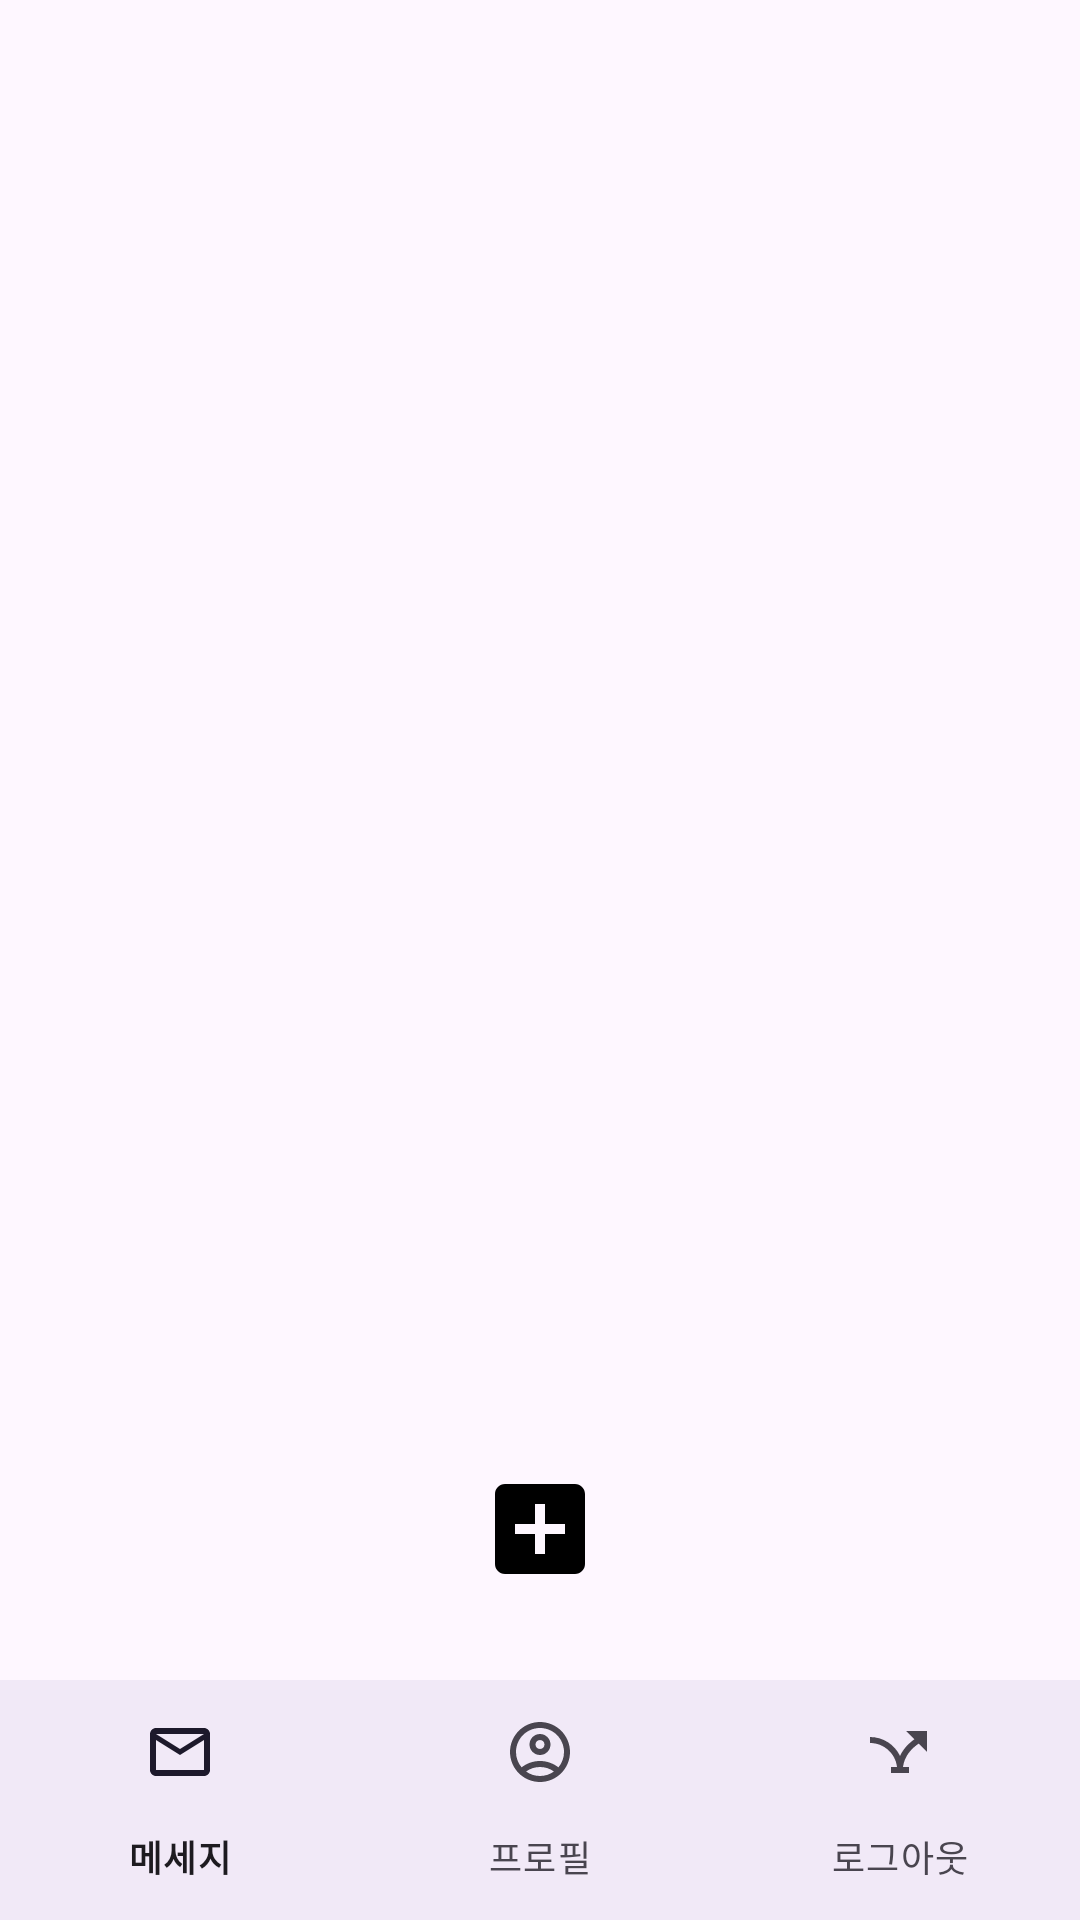

Named icons in this screenshot (1080px x 1920px) and their centers, (x=x, y=y):
add: (x=540, y=1529)
